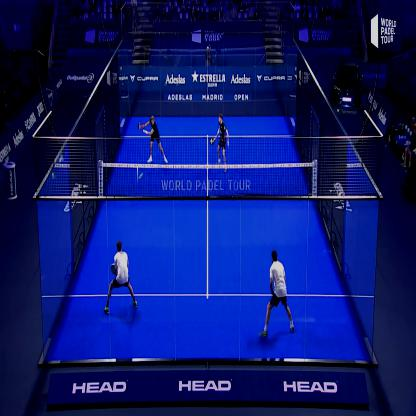ball: (137, 166, 144, 184)
